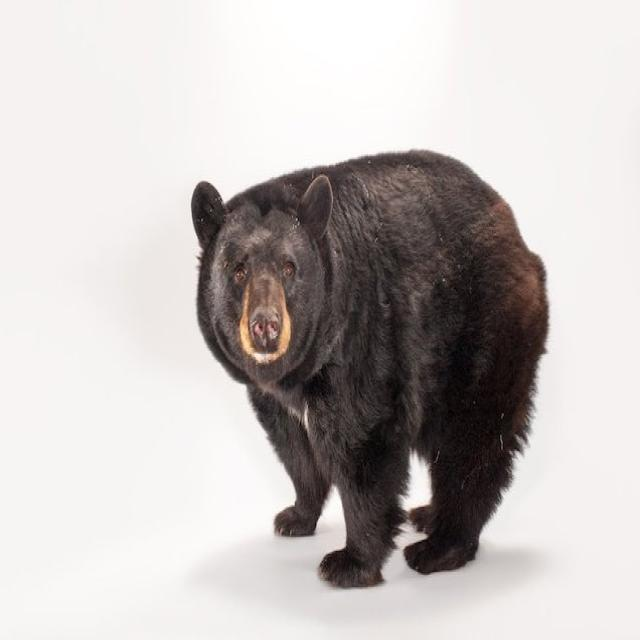bear: (136, 110, 594, 548)
